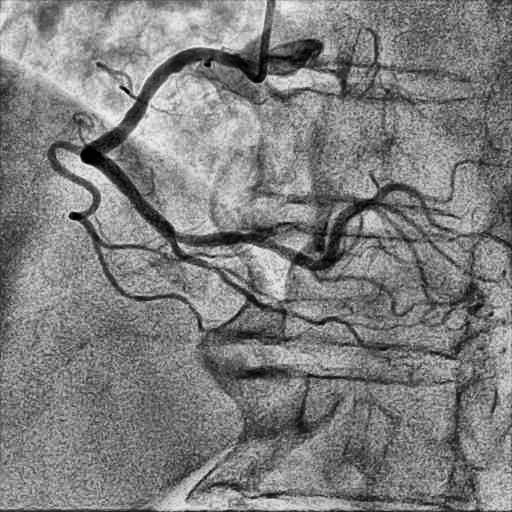pborca: (175, 183, 455, 270)
pda: (167, 239, 362, 343)
rca: (80, 48, 245, 239)
